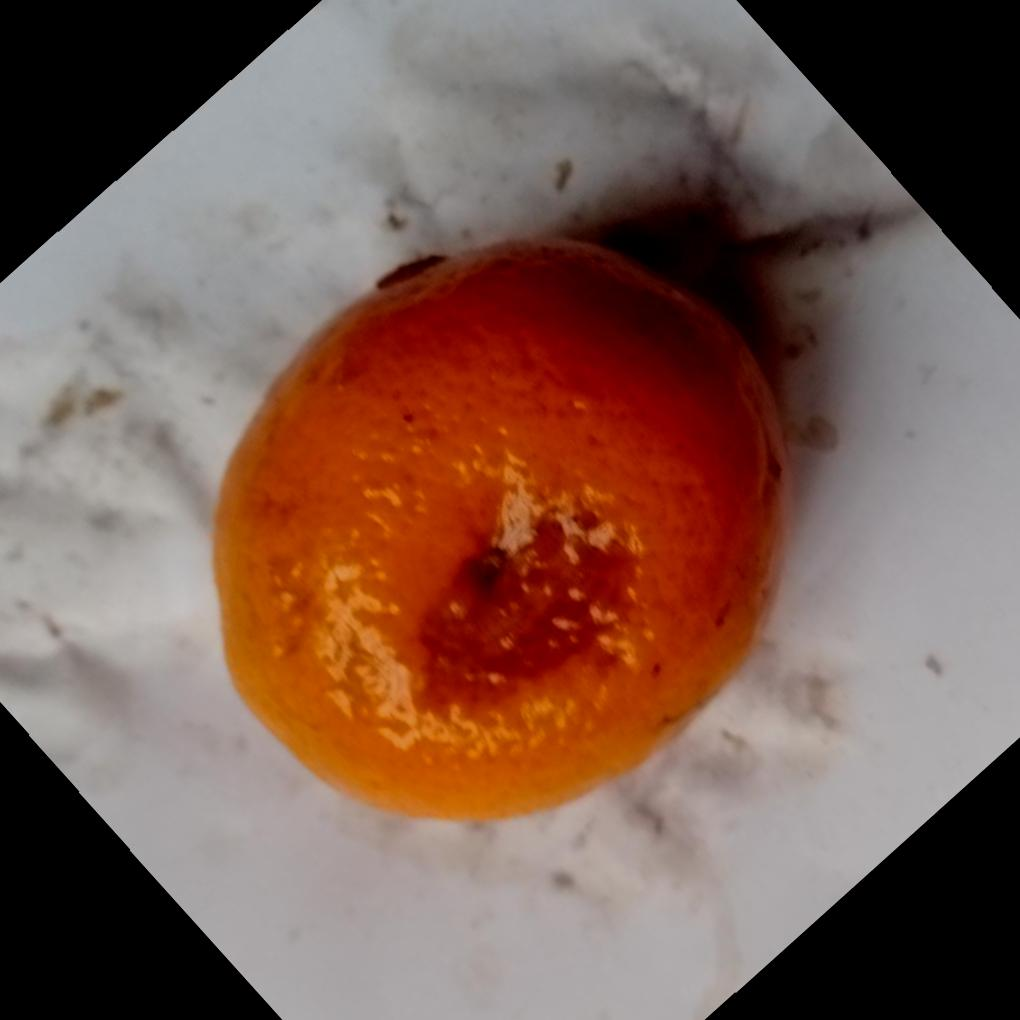FreshOrange: (211, 238, 791, 828)
